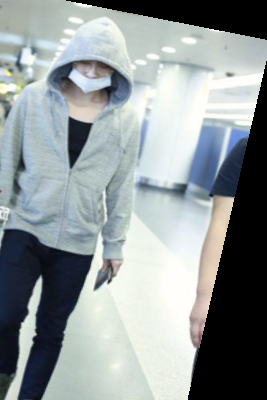mask_weared_incorrect: (60, 19, 130, 98)
